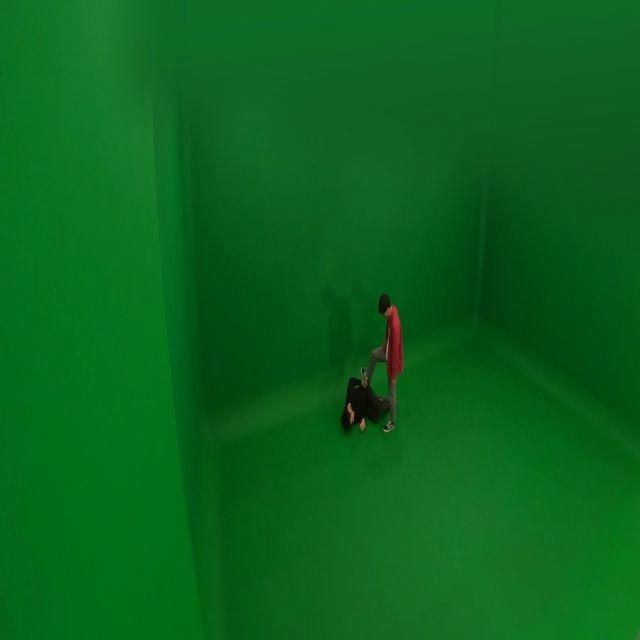fight: (339, 292, 405, 434)
